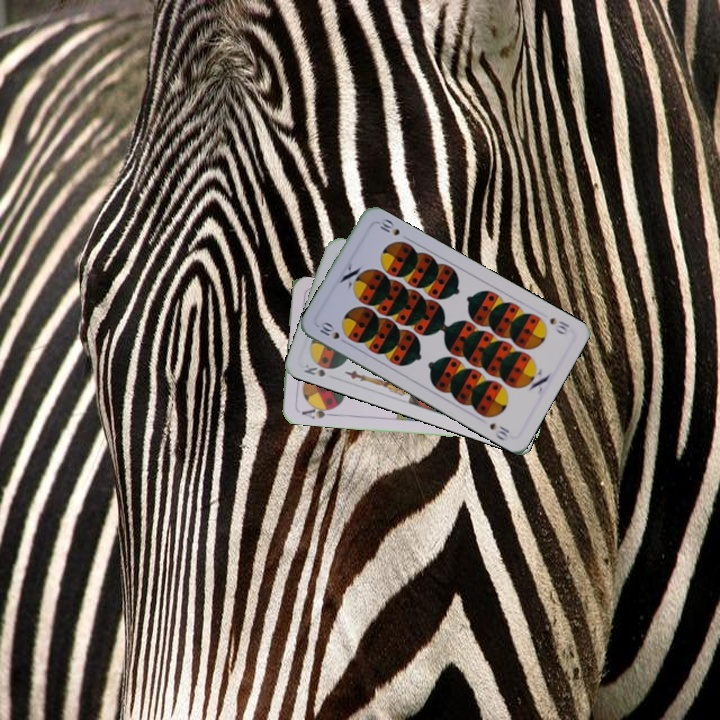S10: (315, 318, 342, 342), (546, 314, 572, 337)
SA: (297, 401, 336, 421)
SK: (300, 360, 328, 379)
